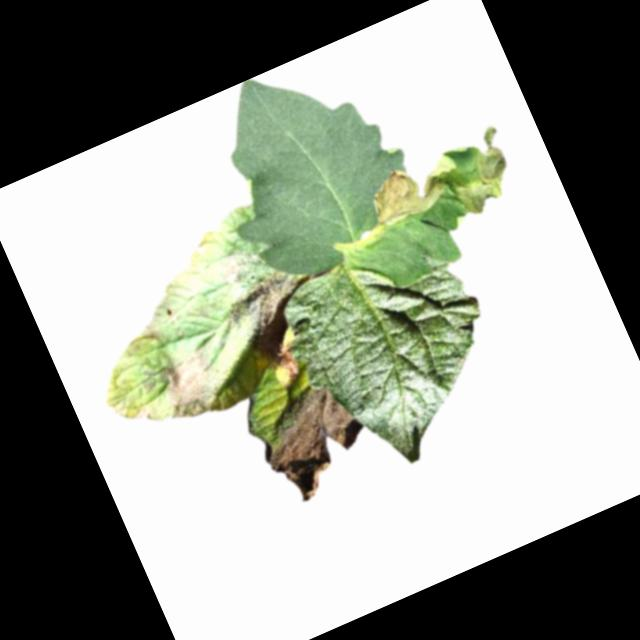Late_blight: (247, 371, 384, 509), (223, 267, 323, 366), (435, 123, 528, 221), (149, 339, 236, 427), (362, 153, 454, 230), (207, 238, 275, 298), (269, 346, 308, 391), (131, 397, 162, 430), (188, 239, 213, 261)
healthy: (276, 220, 527, 485), (182, 37, 427, 296)
